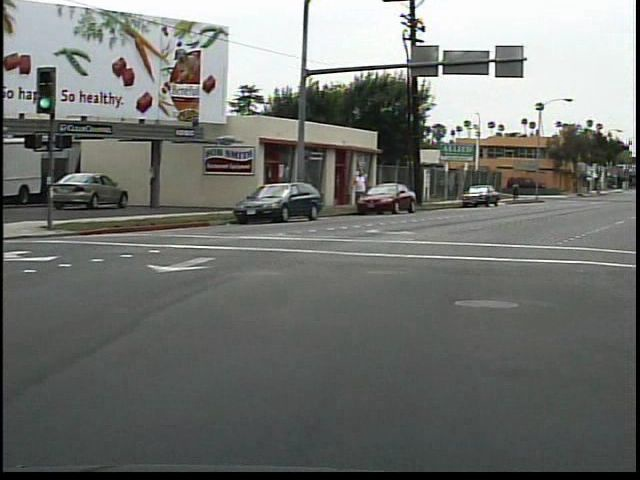person: (352, 164, 374, 212), (512, 178, 524, 205)
